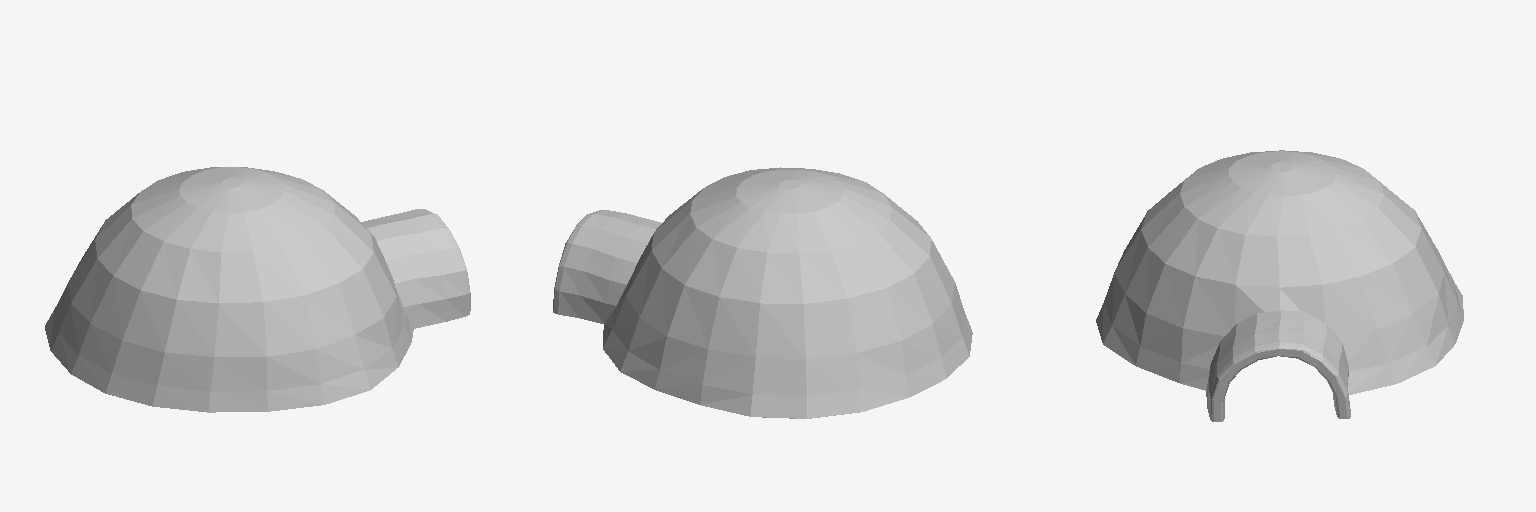
Rendered from igloo_3.obj.
The picture shows the model from 3 angles: view 1: azimuth 30°, elevation 25°; view 2: azimuth 150°, elevation 25°; view 3: azimuth 270°, elevation 25°; orthographic projection.
Visible parts, largest first — view 1: Sphere003_Mesh; view 2: Sphere003_Mesh; view 3: Sphere003_Mesh.
Boxes of the visible parts, box(x1,y1,x2,y2) form: Sphere003_Mesh: box(45, 167, 470, 412); Sphere003_Mesh: box(553, 167, 972, 418); Sphere003_Mesh: box(1096, 150, 1463, 421).
Size of the model in its own units: 5.29 by 2.16 by 4.63.